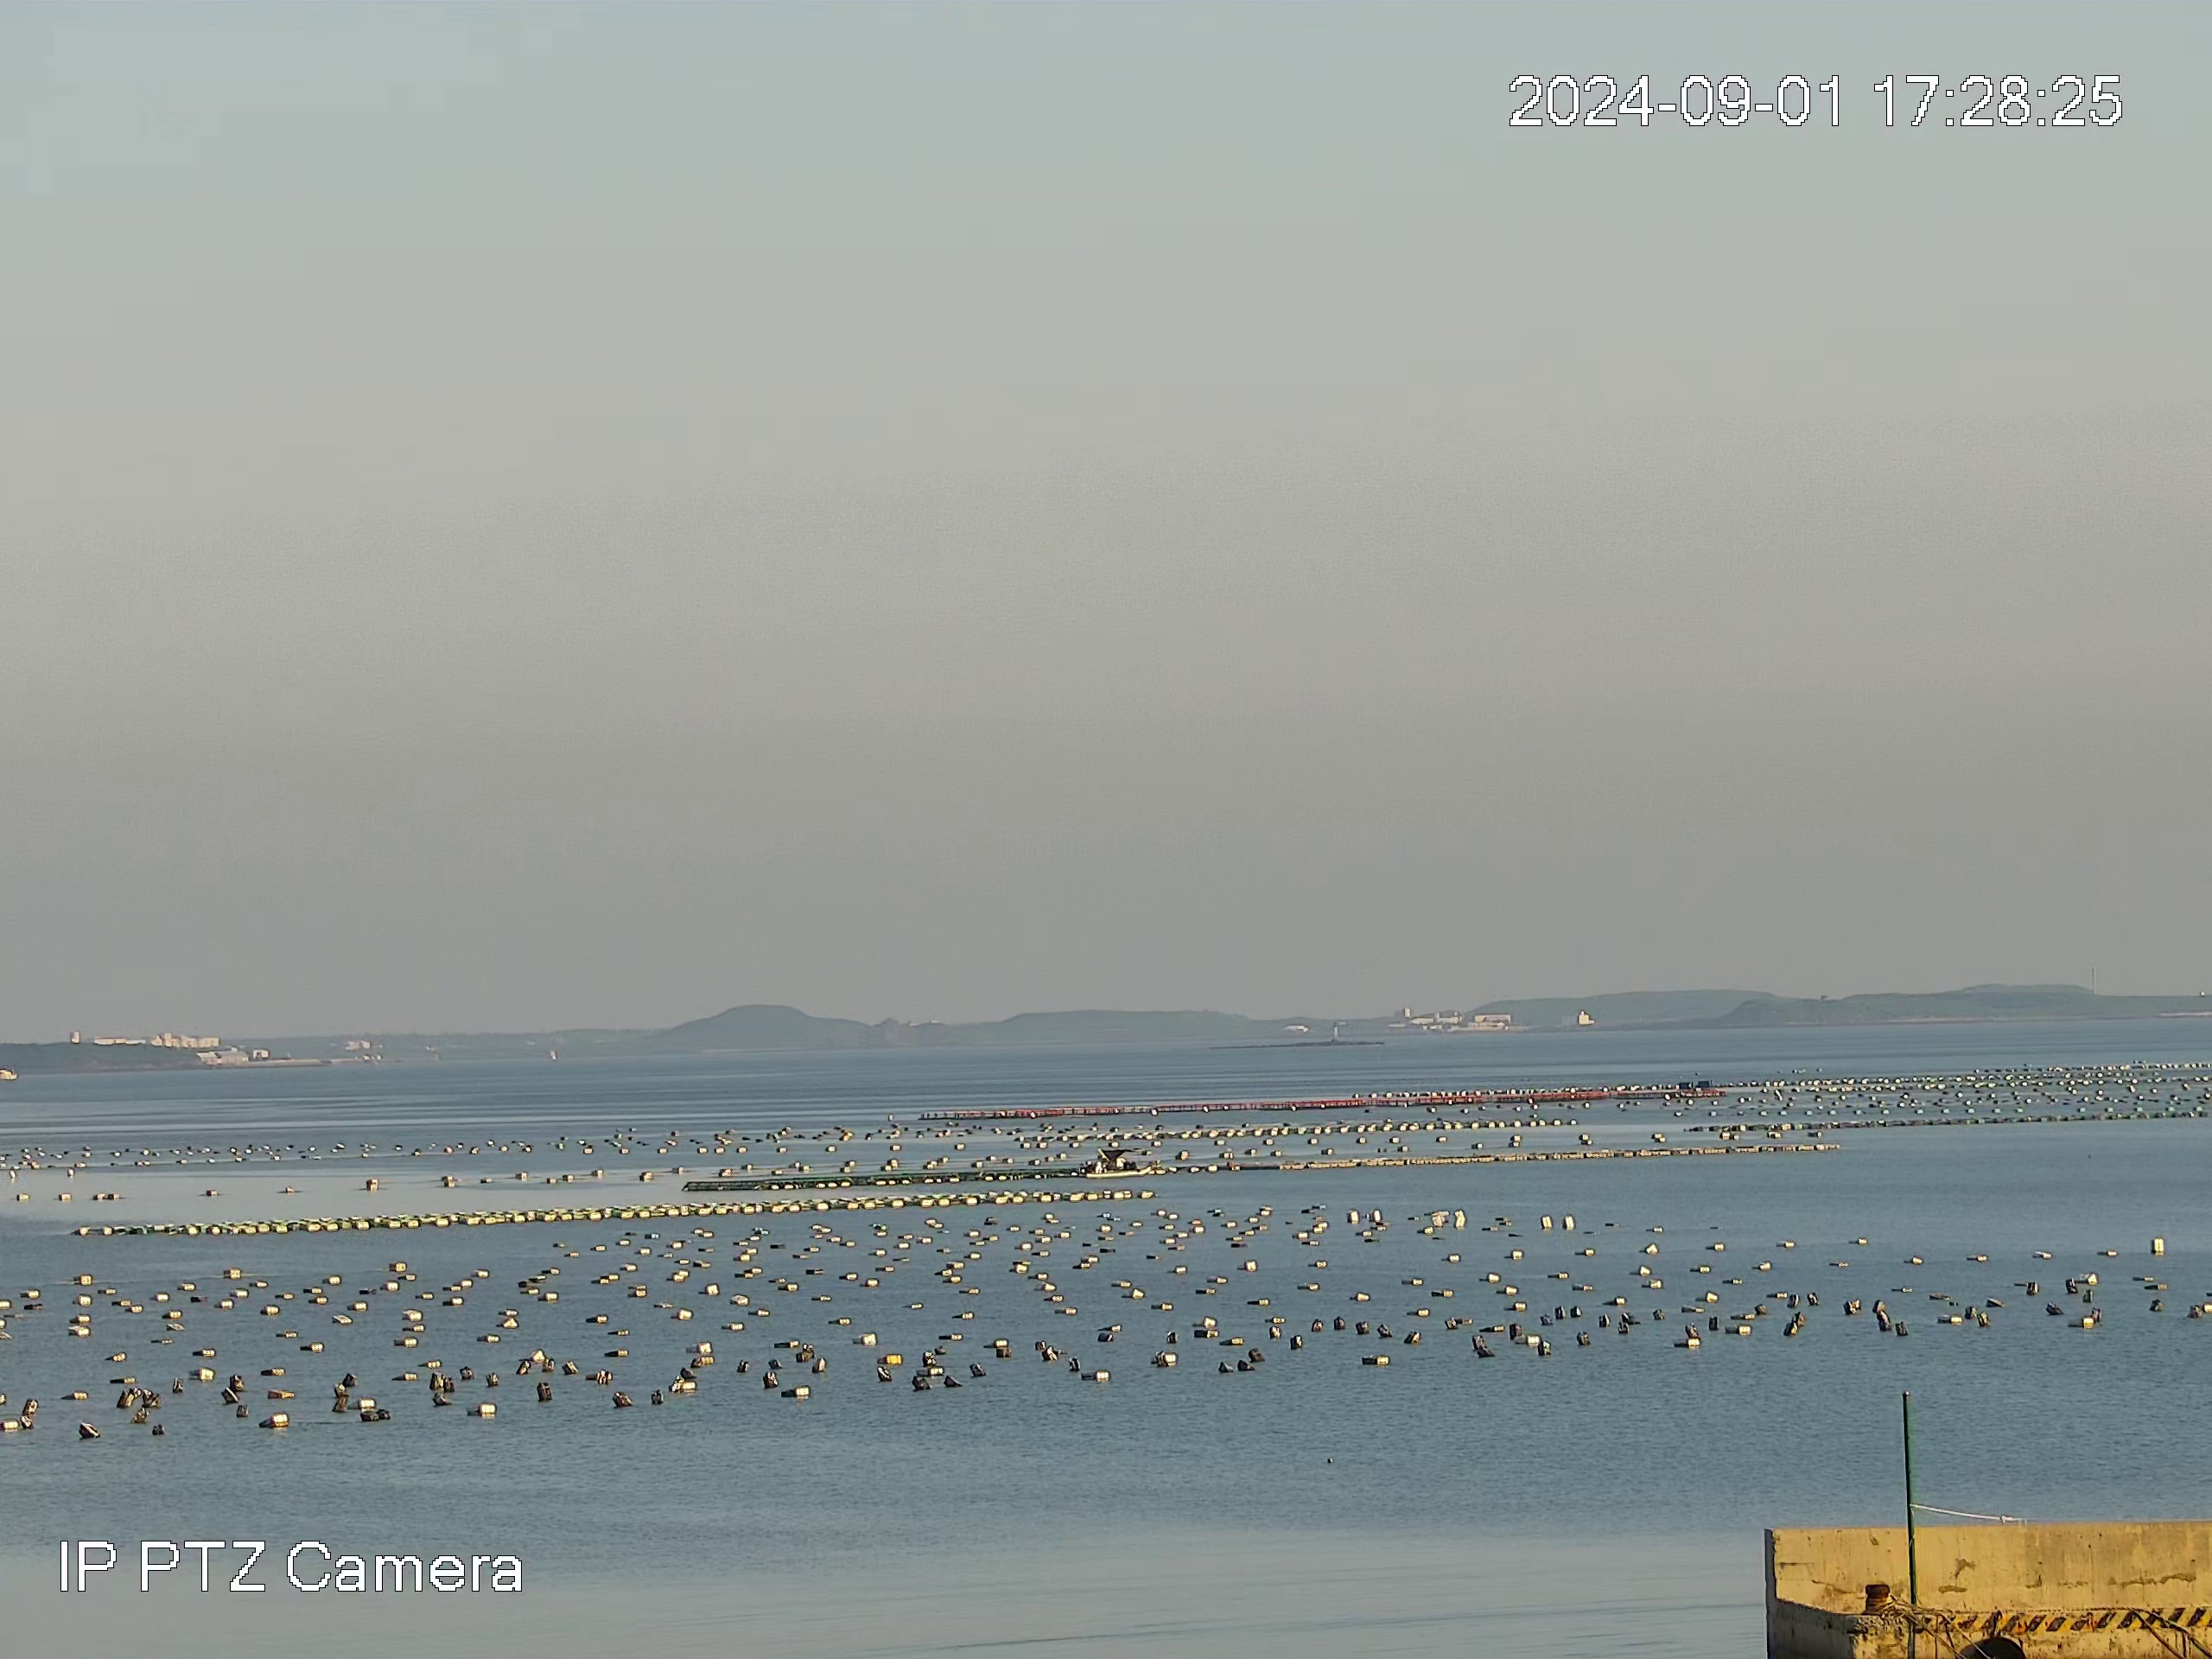boat: (1084, 1144, 1151, 1178)
